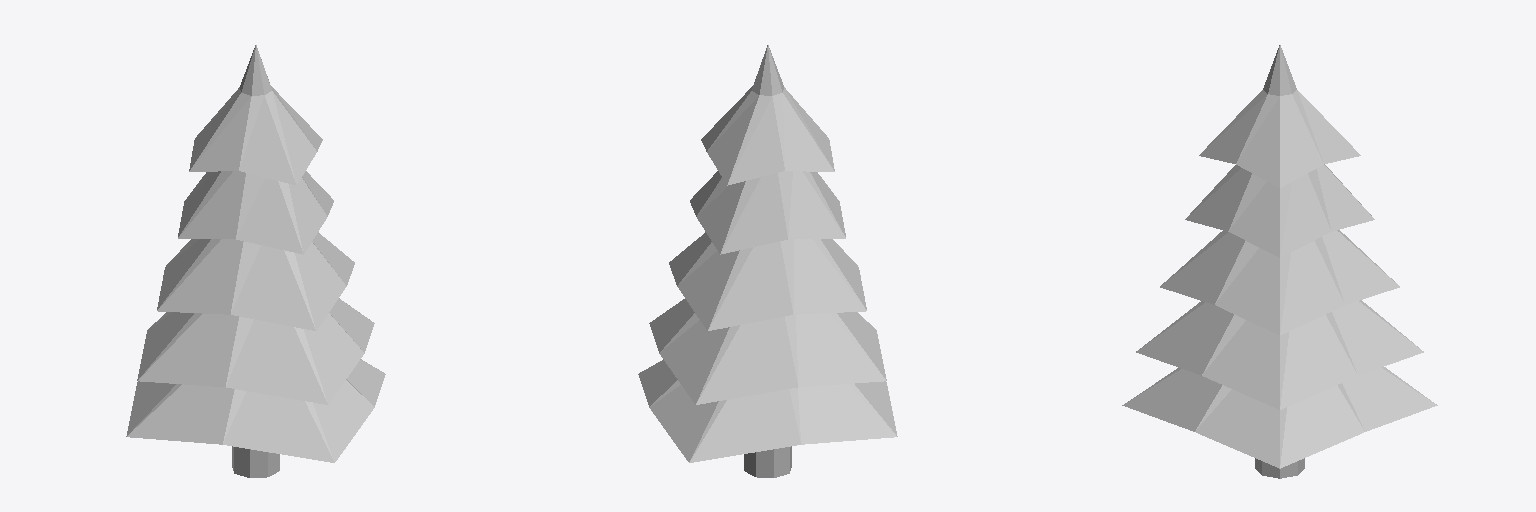
The model's file is firtree.obj.
3 renders of one model, left to right at view 1: azimuth 30°, elevation 25°; view 2: azimuth 150°, elevation 25°; view 3: azimuth 270°, elevation 25°, orthographic.
Parts seen in each view (by area): view 1: pCylinder2; view 2: pCylinder2; view 3: pCylinder2.
Boxes of the visible parts, box(x1,y1,x2,y2) form: pCylinder2: box(126, 45, 385, 477); pCylinder2: box(638, 45, 897, 477); pCylinder2: box(1122, 45, 1437, 478).
Bounding box in the file's own units: 12.01 × 18.76 × 12.64.